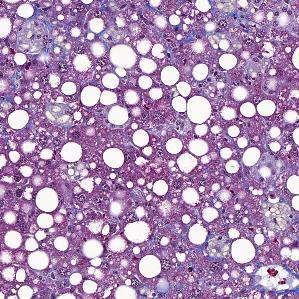fibrosis: (19, 20, 77, 62)
